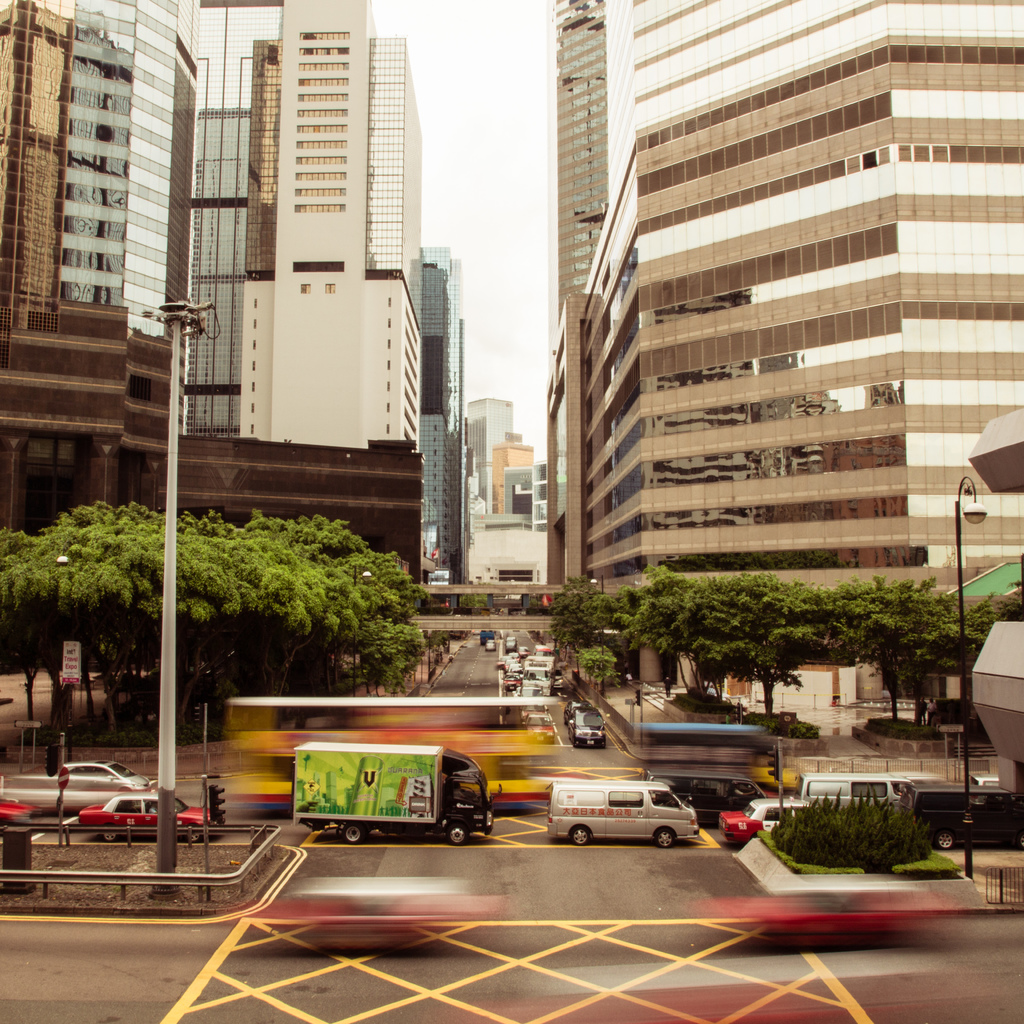Tree: (0, 492, 425, 752), (542, 560, 1023, 730)
